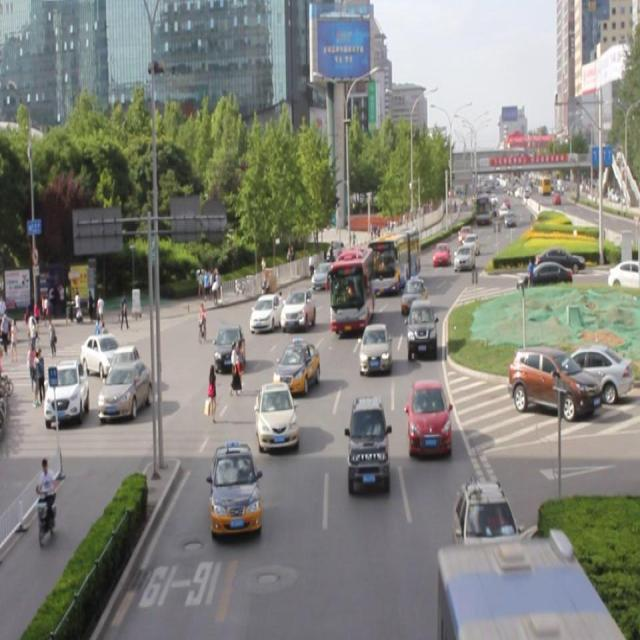car: (455, 482, 522, 579), (210, 445, 258, 539), (348, 398, 388, 490), (408, 380, 450, 459), (256, 381, 296, 450), (274, 341, 317, 395), (406, 298, 436, 363), (278, 280, 313, 327), (360, 324, 390, 378), (214, 320, 243, 370), (248, 288, 281, 326), (402, 276, 427, 314)
van: (440, 546, 609, 640), (329, 248, 374, 328), (368, 228, 419, 292)
